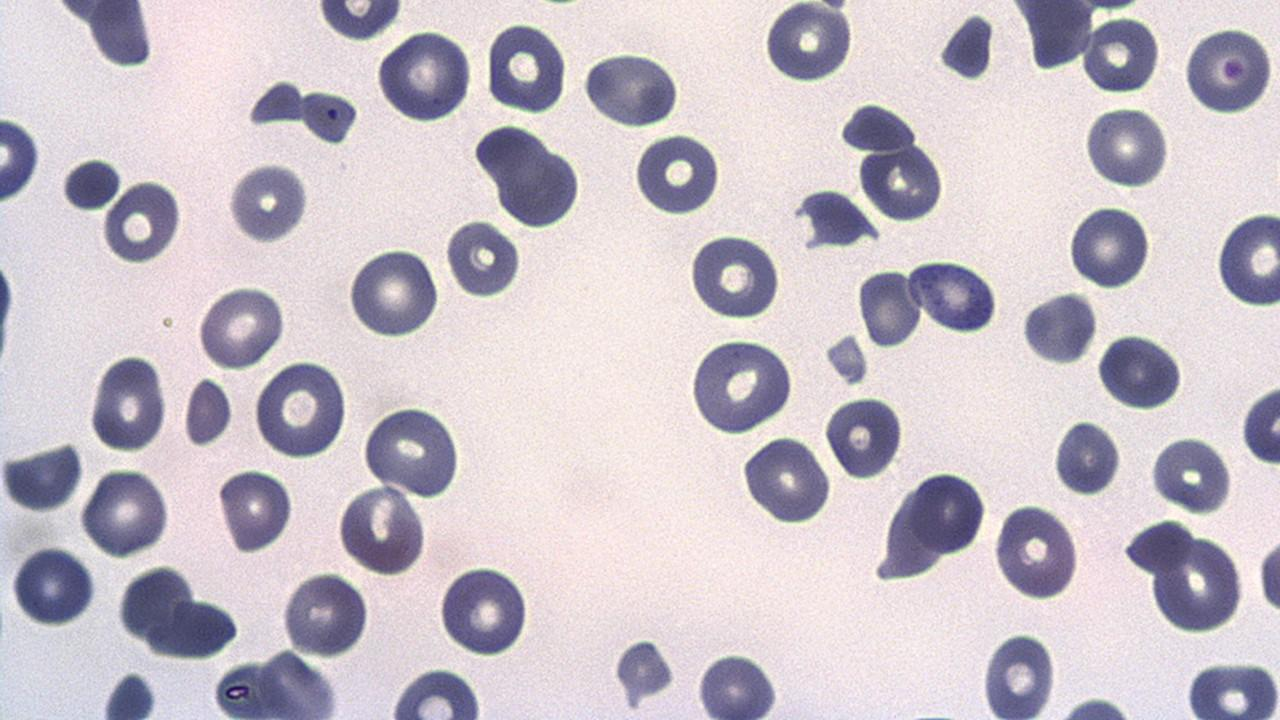Platelets: (224, 160, 312, 247), (1095, 330, 1187, 411), (692, 648, 788, 718), (443, 219, 527, 298), (1020, 286, 1098, 366), (1051, 419, 1121, 498), (792, 188, 880, 250), (608, 634, 680, 708), (84, 2, 158, 69), (836, 100, 924, 156), (936, 13, 997, 81), (56, 156, 123, 215), (179, 376, 234, 447), (314, 1, 407, 41), (298, 87, 361, 146), (244, 79, 307, 129), (101, 669, 161, 719), (822, 333, 870, 386), (1254, 532, 1280, 618), (0, 259, 17, 340), (0, 302, 16, 368)
RBC: (687, 334, 796, 435), (1148, 528, 1244, 638), (252, 358, 350, 460), (360, 402, 466, 496), (376, 28, 473, 125), (436, 560, 532, 658), (990, 500, 1080, 603), (347, 242, 441, 340), (1181, 23, 1277, 116), (686, 231, 784, 322), (335, 484, 430, 576), (80, 464, 173, 557), (740, 432, 832, 526), (580, 48, 684, 129), (280, 569, 372, 659), (629, 129, 723, 216), (484, 20, 568, 117), (88, 352, 169, 452), (223, 158, 312, 248), (195, 282, 285, 371), (760, 1, 855, 84), (1083, 101, 1171, 190), (1067, 201, 1151, 292), (854, 142, 948, 222), (10, 542, 96, 628), (822, 390, 906, 478), (101, 177, 183, 267), (979, 626, 1059, 718), (1094, 331, 1184, 412), (909, 468, 988, 556), (216, 465, 293, 555), (441, 216, 525, 298), (1079, 12, 1163, 94), (1150, 432, 1234, 514), (1215, 206, 1279, 311), (253, 644, 342, 718), (2, 437, 86, 515), (694, 646, 782, 720), (918, 259, 1000, 334), (1181, 658, 1279, 716), (856, 267, 924, 350), (1122, 514, 1194, 576), (0, 112, 42, 205), (316, 0, 406, 43), (299, 86, 360, 146), (1240, 381, 1280, 468), (1254, 532, 1280, 620)
WBC: (0, 11, 678, 720), (684, 0, 1280, 720), (186, 230, 389, 570), (474, 123, 586, 232), (688, 332, 798, 437), (898, 469, 991, 561), (856, 142, 948, 223), (1096, 331, 1186, 411), (2, 438, 87, 514), (1020, 286, 1099, 367), (86, 2, 160, 71), (836, 100, 920, 156), (936, 10, 996, 84)
